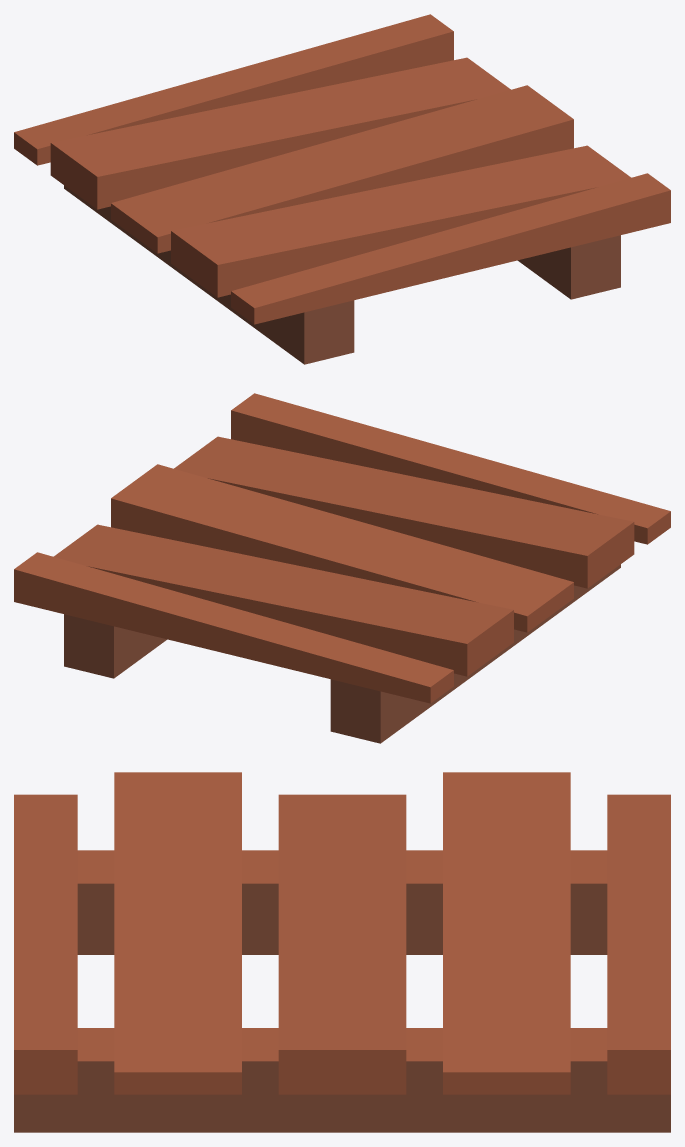
Rendered from platform.fbx.
The picture shows the model from 3 angles, top to bottom: view 1: azimuth 30°, elevation 25°; view 2: azimuth 150°, elevation 25°; view 3: azimuth 270°, elevation 25°; orthographic projection. The views are drawn at different scales.
Visible parts, largest first — view 1: platform; view 2: platform; view 3: platform.
Part boxes in pixels (x1,y1,x2,y2): platform: [14, 14, 670, 364]; platform: [14, 393, 670, 743]; platform: [14, 772, 670, 1132].
Size of the model in its own units: 100 by 19.5 by 100.
